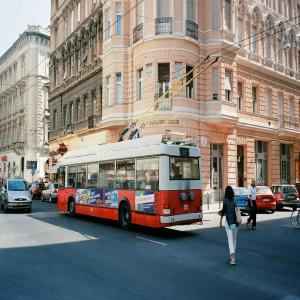Vehicle-registration-plate: (238, 207, 247, 211), (18, 203, 26, 207), (265, 198, 271, 202), (288, 197, 296, 200)
